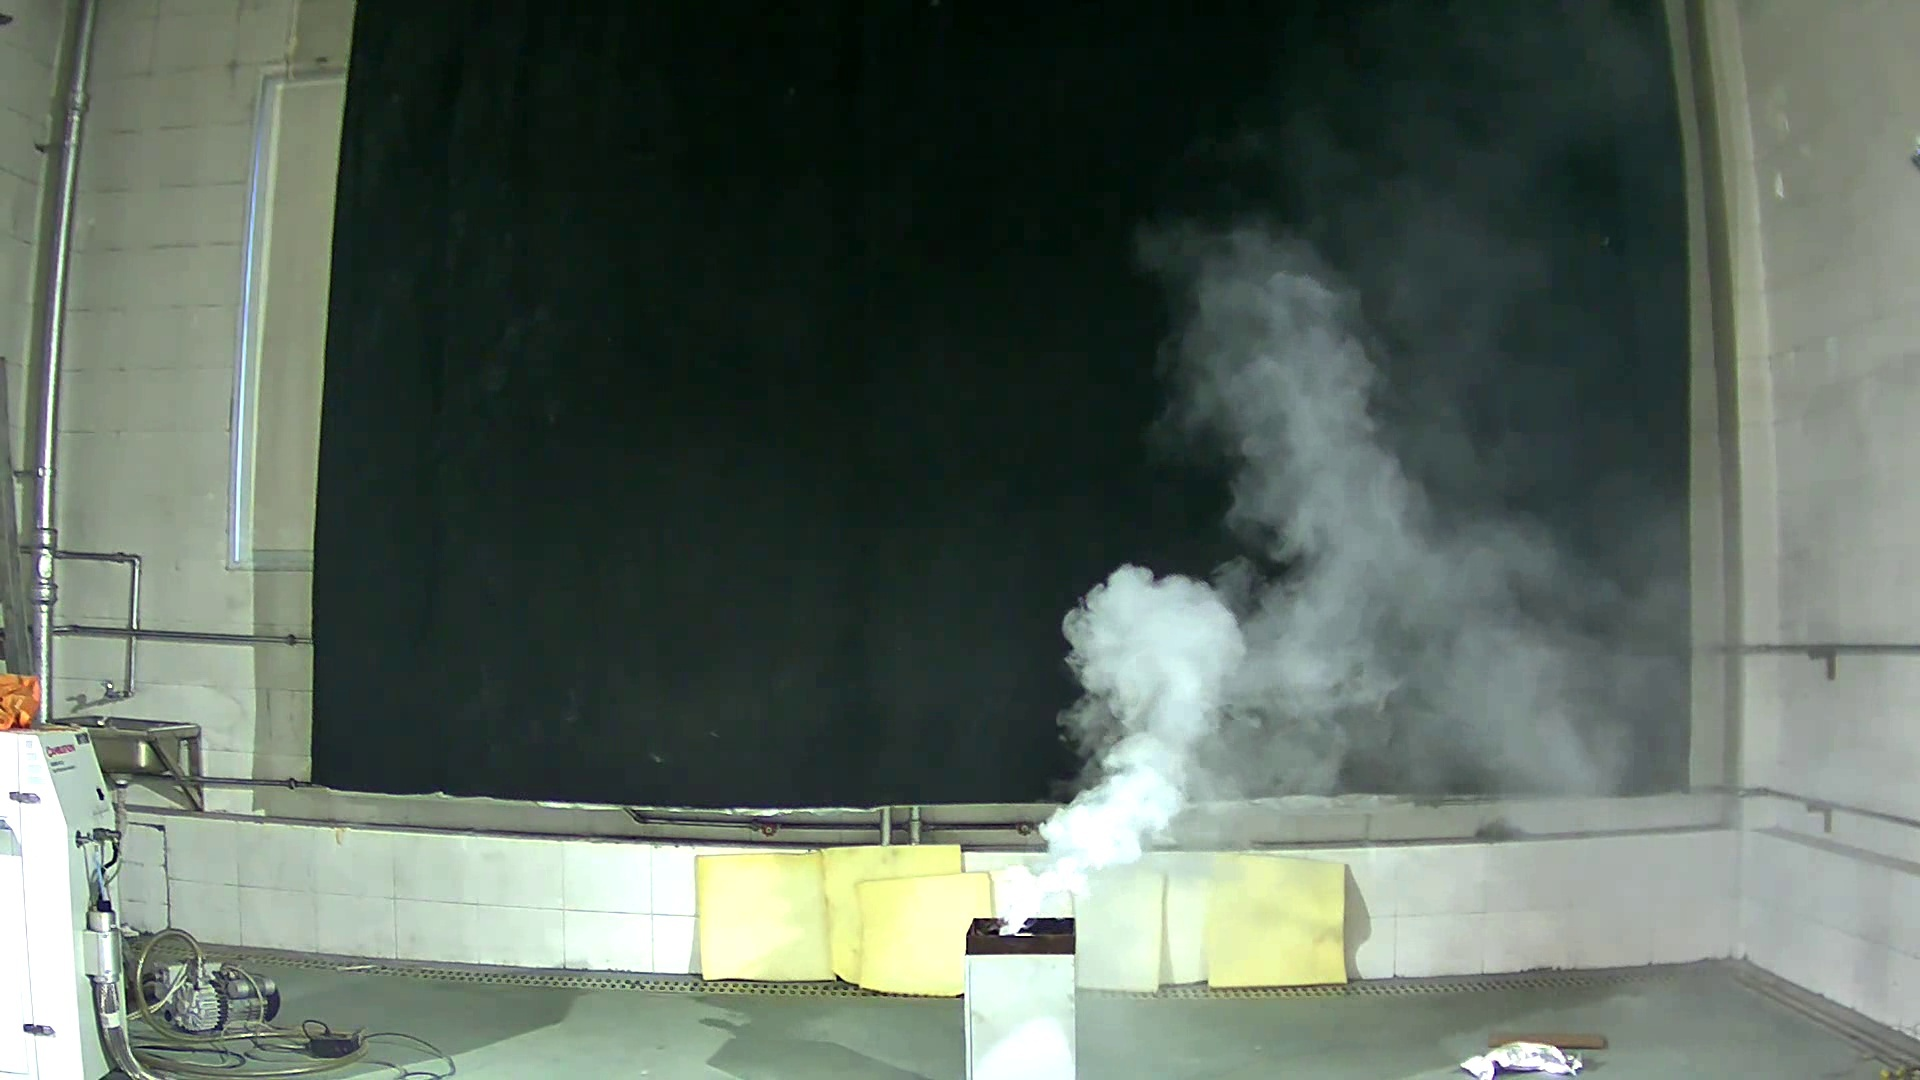smoke: (1019, 185, 1534, 920)
